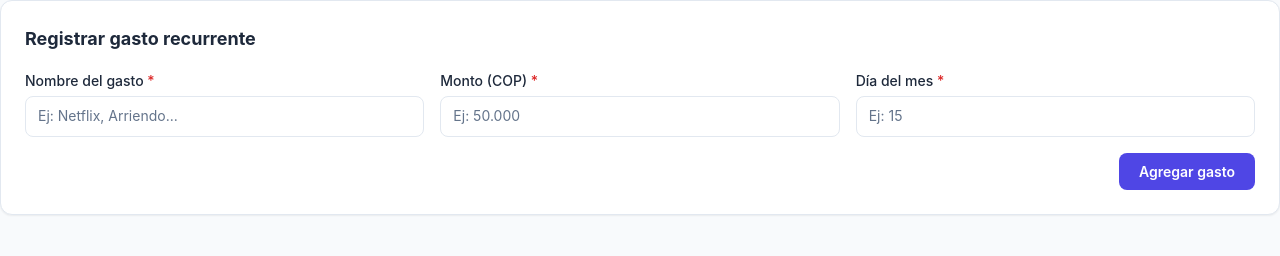
ExpenseForm — validación › muestra error si el día es mayor a 31
In the field labelled "Nombre del gasto": (225, 116) left=25, top=96, right=424, bottom=137, type "Test"
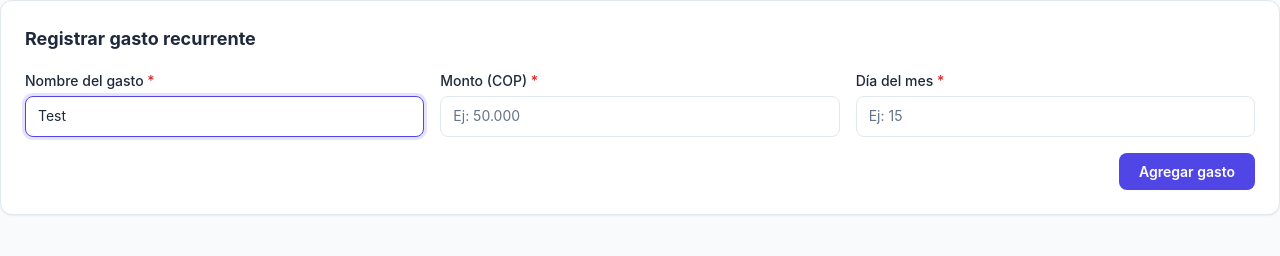
In the field labelled "Monto (COP)": (640, 116) left=440, top=96, right=840, bottom=137, type "10000"
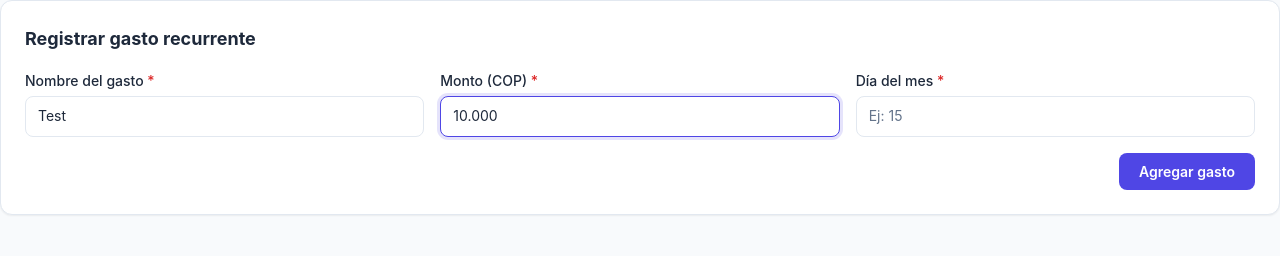
In the number field labelled "Día del mes": (1055, 116) left=856, top=96, right=1255, bottom=137, type "32"
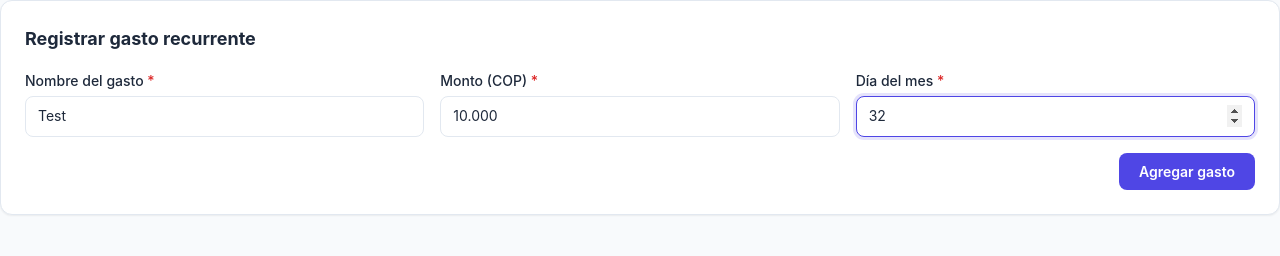
Click the button "Agregar gasto": (1187, 171) left=1119, top=153, right=1255, bottom=190
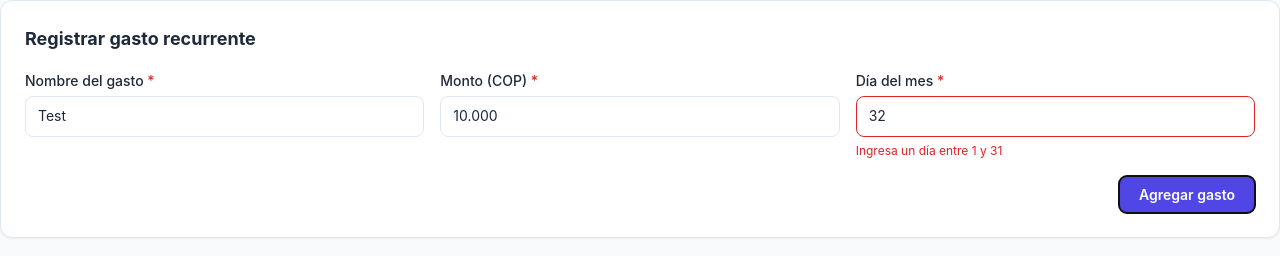
expect the text "Ingresa un día entre 1 y 31" is shown: met, box left=856, top=143, right=1002, bottom=158
